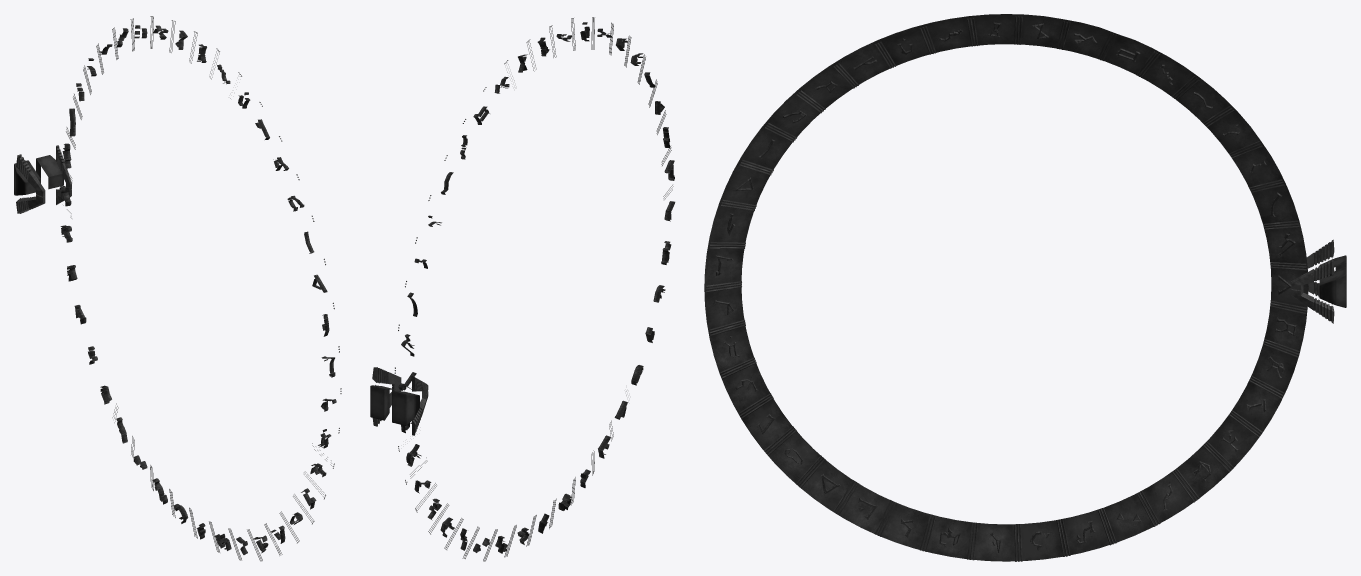
The model's file is stargate_sg1.glb.
3 views of the same model, side by side, from view 1: azimuth 30°, elevation 25°; view 2: azimuth 150°, elevation 25°; view 3: azimuth 270°, elevation 25° (orthographic). The views are drawn at different scales.
Parts seen in each view (by area): view 1: gate_ring, chevron_back, chevron_light, chevron_light_back, chevron; view 2: gate_ring, chevron_light_back, chevron_light, chevron, chevron_back; view 3: gate_ring, chevron, chevron_light.
Part boxes in pixels (x1,y1,x2,y2): gate_ring: (59, 16, 341, 561); chevron_back: (16, 154, 45, 213); chevron_light: (36, 155, 63, 189); chevron_light_back: (14, 160, 40, 195); chevron: (56, 145, 71, 204); gate_ring: (394, 17, 675, 561); chevron_light_back: (392, 391, 419, 425); chevron_light: (370, 385, 395, 420); chevron: (372, 367, 401, 426); chevron_back: (412, 376, 428, 435); gate_ring: (704, 14, 1308, 561); chevron: (1291, 258, 1334, 323); chevron_light: (1319, 267, 1346, 307).
Size of the model in its own units: 0.0137 by 0.1535 by 0.1631.
Materials: 3 (3 with a texture image).
